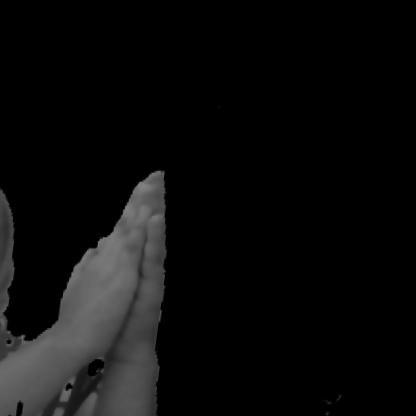clap: (17, 134, 216, 415)
